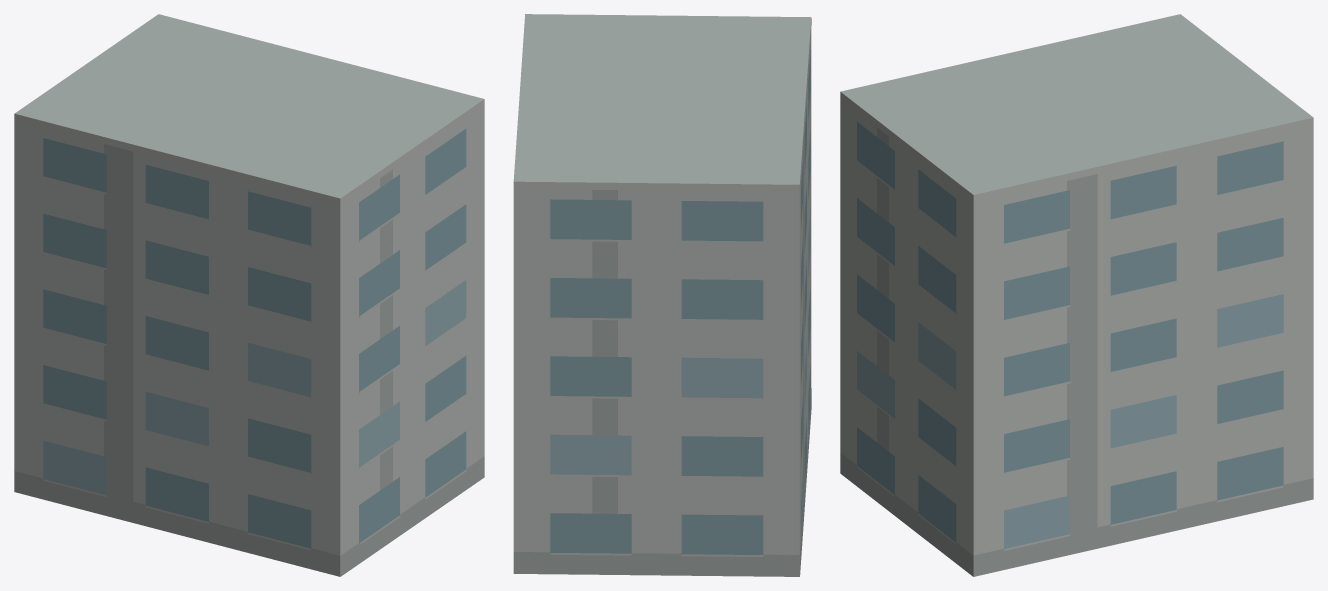
File: survey-upis-32746781.glb
3 renders of one model, left to right at view 1: azimuth 30°, elevation 25°; view 2: azimuth 150°, elevation 25°; view 3: azimuth 270°, elevation 25°, orthographic. The views are drawn at different scales.
Visible parts, largest first — view 1: survey-upis-32746781.tmp; view 2: survey-upis-32746781.tmp; view 3: survey-upis-32746781.tmp.
Part boxes in pixels (x1,y1,x2,y2): survey-upis-32746781.tmp: (14,14,484,576); survey-upis-32746781.tmp: (513,14,811,576); survey-upis-32746781.tmp: (840,14,1313,576).
Bounding box in the file's own units: 13.23 × 13 × 14.61.
